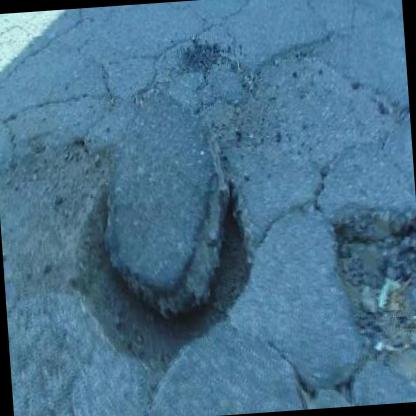pothole: (62, 151, 262, 384), (326, 203, 416, 372)
